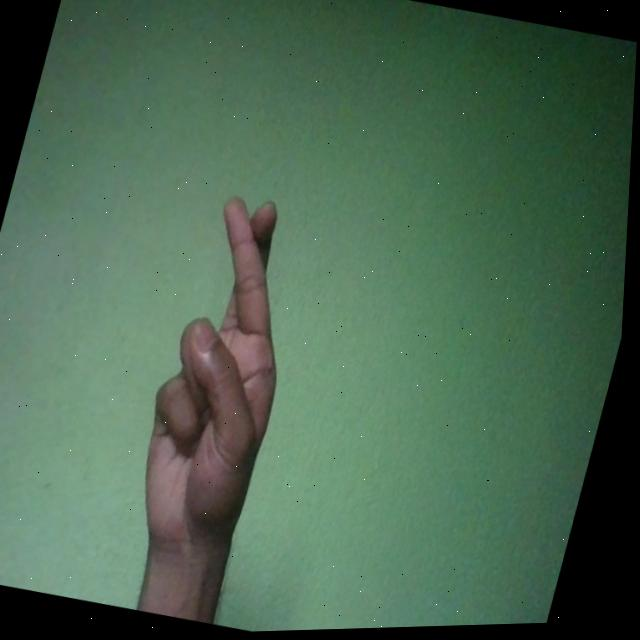Good Luck: (120, 187, 328, 575)
